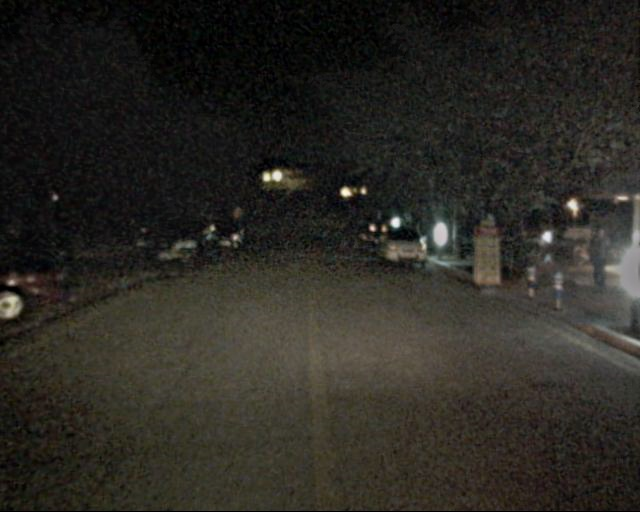person: (581, 229, 610, 299)
